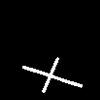single_crochet: (23, 58, 81, 92)
